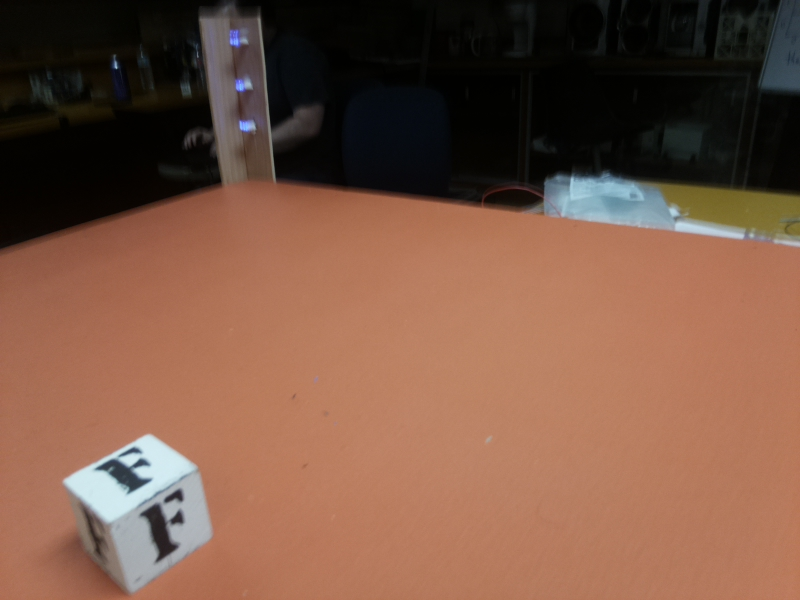blockF: (61, 427, 215, 592)
corner: (202, 12, 272, 184)
